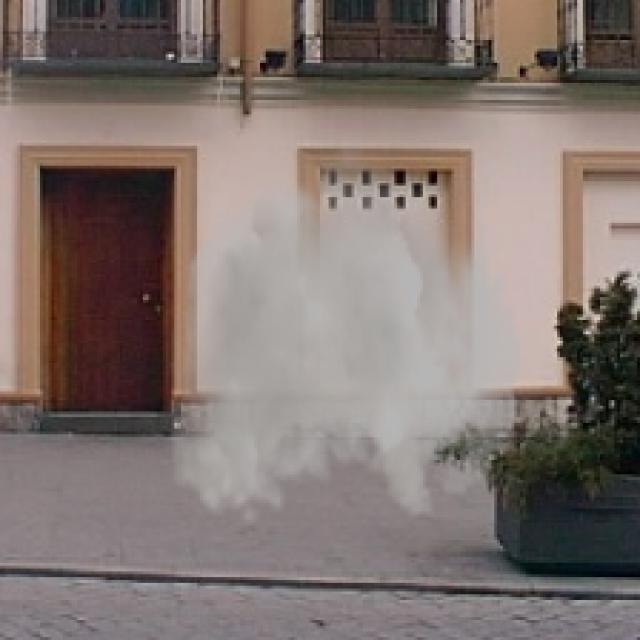smoke: (169, 128, 520, 528)
